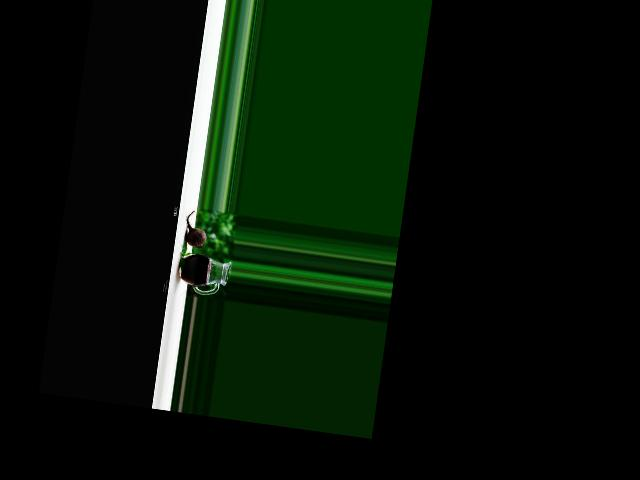beet: (182, 210, 209, 249)
